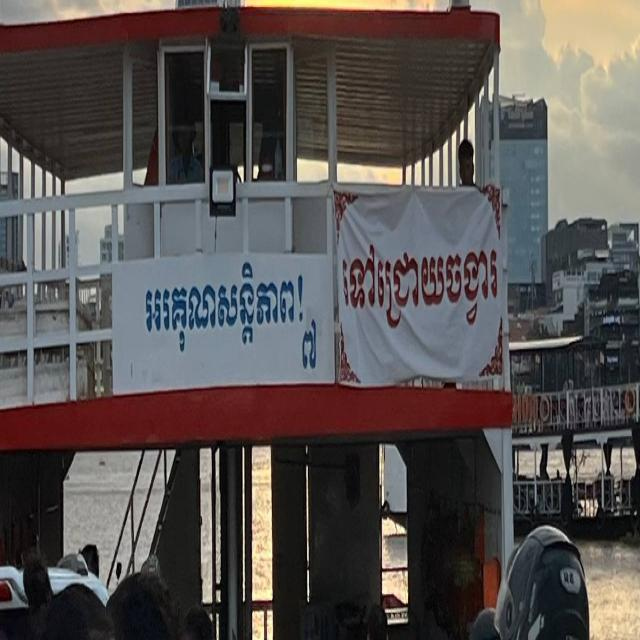Yolov11kh: (142, 258, 308, 357), (336, 235, 502, 331), (300, 315, 320, 382)
